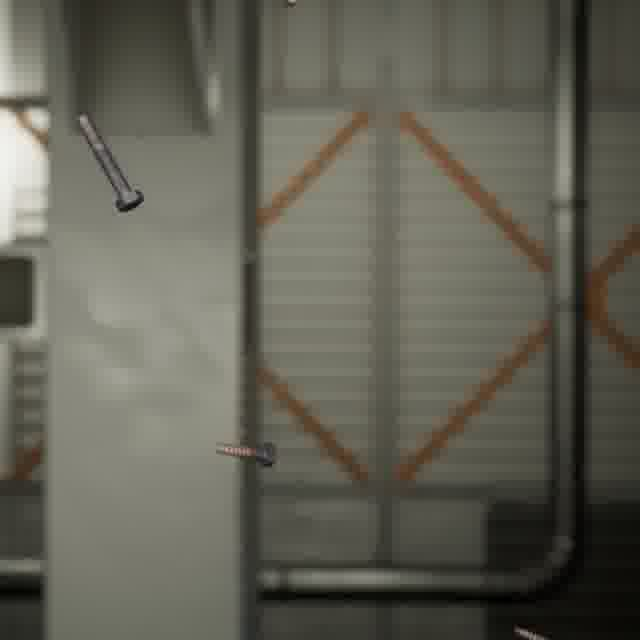bolt: (71, 110, 148, 216), (209, 437, 281, 472)
